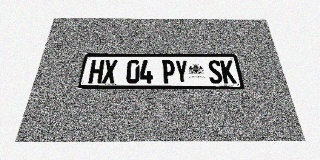0: (126, 60, 140, 84)
4: (139, 60, 153, 84)
H: (88, 60, 105, 84)
K: (220, 60, 237, 84)
P: (162, 60, 175, 84)
S: (207, 60, 223, 84)
X: (102, 60, 117, 84)
Y: (175, 60, 189, 84)
